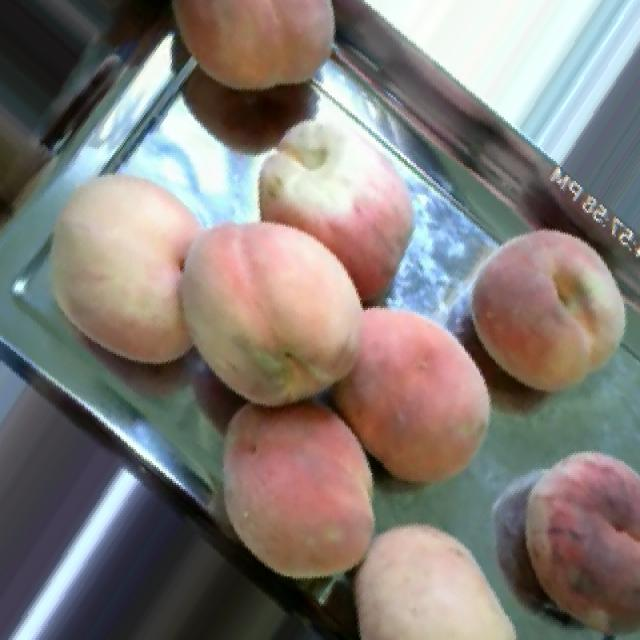Fruit: (182, 376, 410, 606), (169, 205, 380, 429), (312, 290, 512, 507), (28, 159, 219, 386), (454, 210, 640, 407), (247, 117, 428, 306), (321, 499, 544, 640), (500, 431, 640, 640), (158, 0, 354, 107)
